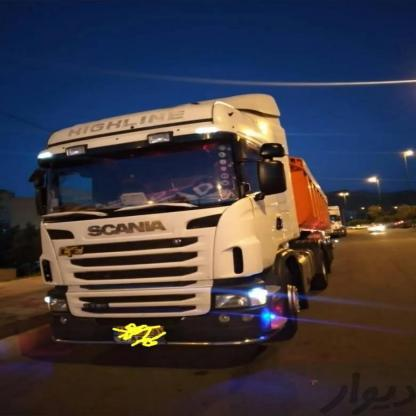Truck: (34, 104, 344, 360), (328, 206, 347, 235)
